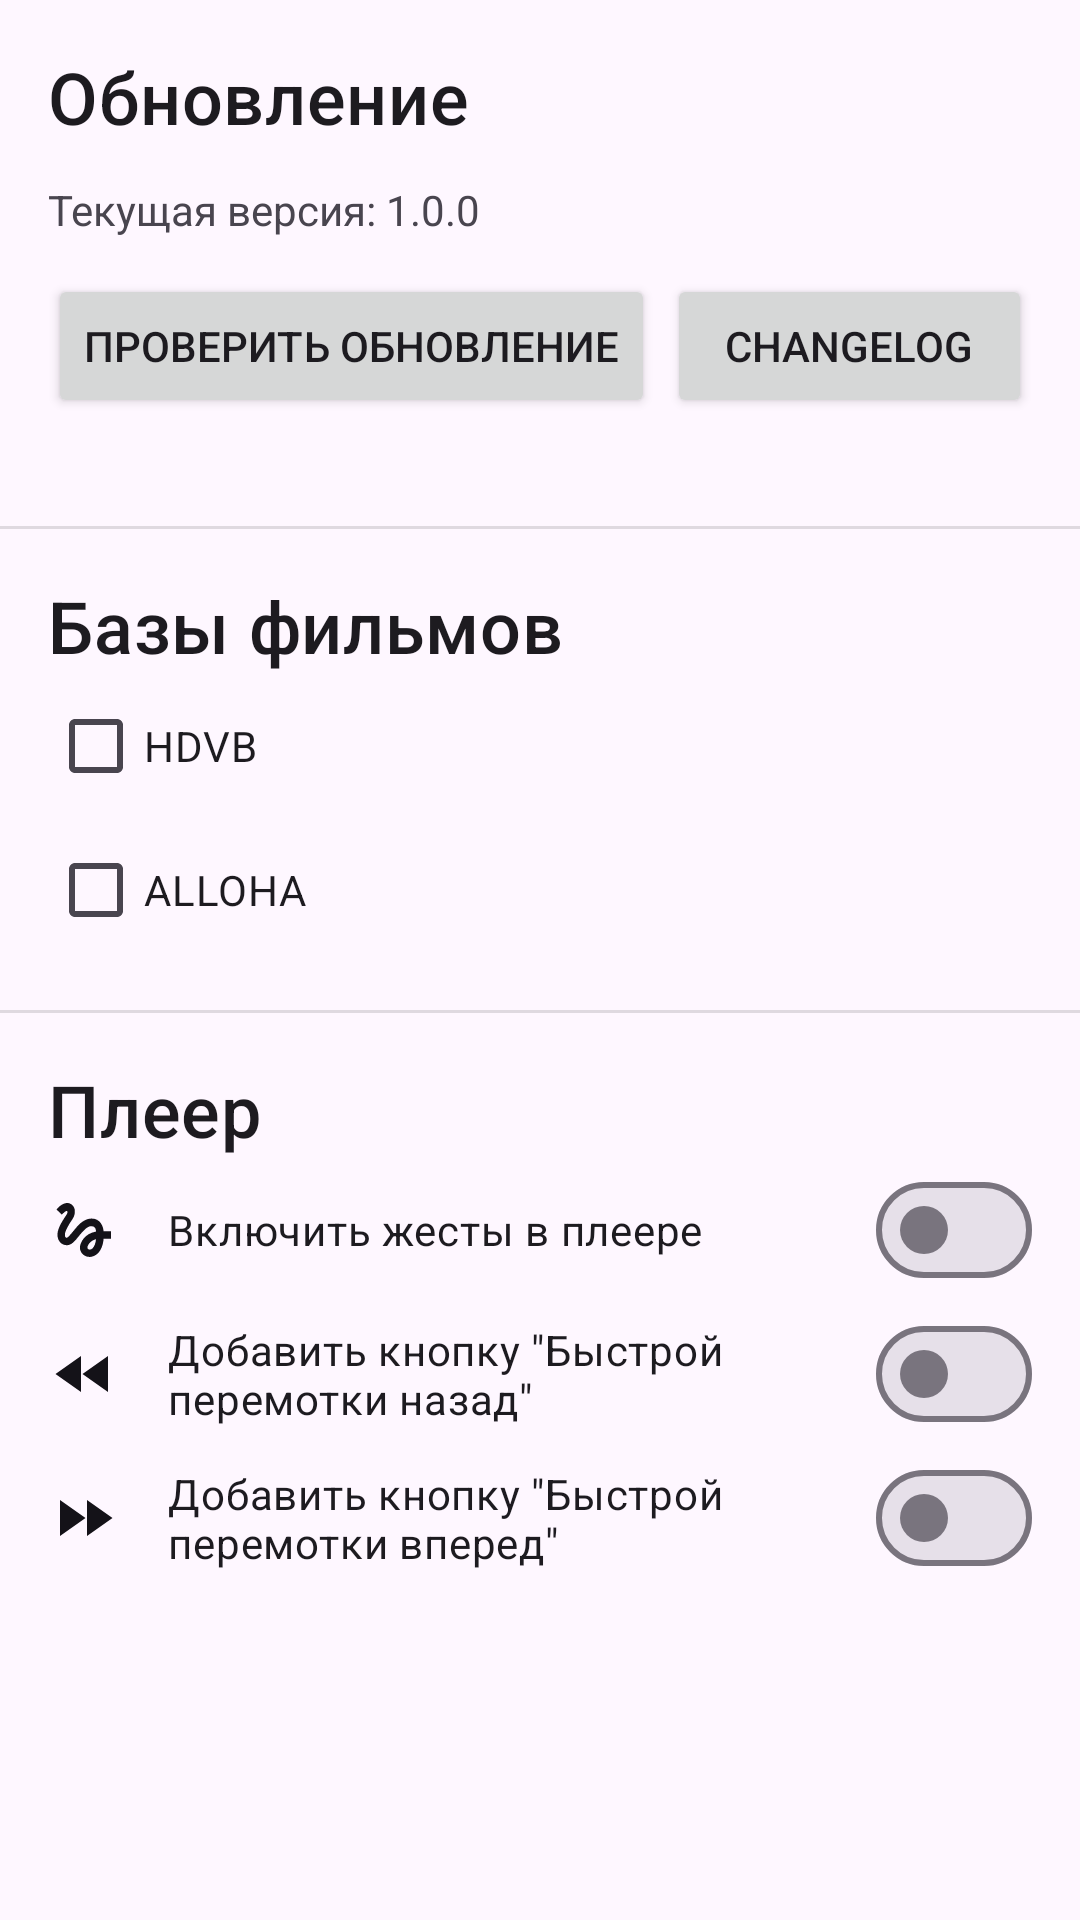

Icons on this 1080w x 1920h Android screen, each with its box as (x1, y1, x2, y2):
fast forward: (60, 1500, 112, 1536)
fast rewind: (56, 1356, 108, 1392)
gesture: (56, 1203, 111, 1257)
